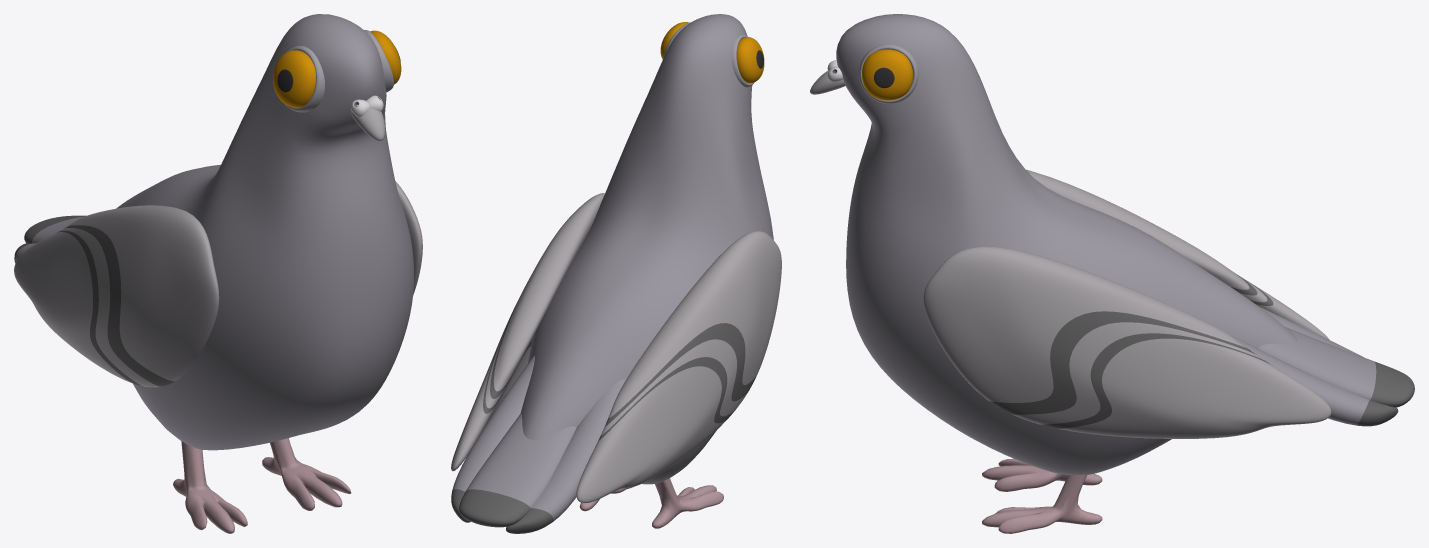
Rendered from WalkingAngryPigeon.glb.
3 renders of one model, left to right at view 1: azimuth 30°, elevation 25°; view 2: azimuth 150°, elevation 25°; view 3: azimuth 270°, elevation 25°, orthographic. The views are drawn at different scales.
Parts seen in each view (by area): view 1: polySurface71, polySurface74, polySurface69, polySurface70, polySurface76, polySurface72, polySurface73, polySurface68, polySurface56, polySurface75; view 2: polySurface71, polySurface74, polySurface72, polySurface73, polySurface69, polySurface76; view 3: polySurface71, polySurface73, polySurface72, polySurface74, polySurface70, polySurface69, polySurface75, polySurface67.
Part boxes in pixels (x1,y1,x2,y2): polySurface71: (116,14,413,450); polySurface74: (14,205,219,387); polySurface69: (173,441,247,533); polySurface70: (262,438,351,510); polySurface76: (273,50,315,107); polySurface72: (14,215,86,263); polySurface73: (395,181,422,295); polySurface68: (285,46,324,112); polySurface56: (351,107,385,141); polySurface75: (370,30,401,84); polySurface71: (521,14,773,484); polySurface74: (576,231,781,502); polySurface72: (451,355,625,533); polySurface73: (451,193,604,471); polySurface69: (652,478,723,528); polySurface76: (736,37,764,83); polySurface71: (836,14,1297,475); polySurface73: (923,246,1331,438); polySurface72: (1229,307,1414,426); polySurface74: (1026,169,1329,339); polySurface70: (982,474,1102,533); polySurface69: (982,458,1102,491); polySurface75: (862,49,913,100); polySurface67: (859,44,918,103).
Size of the model in its own units: 0.0424 by 0.0844 by 0.0949.
